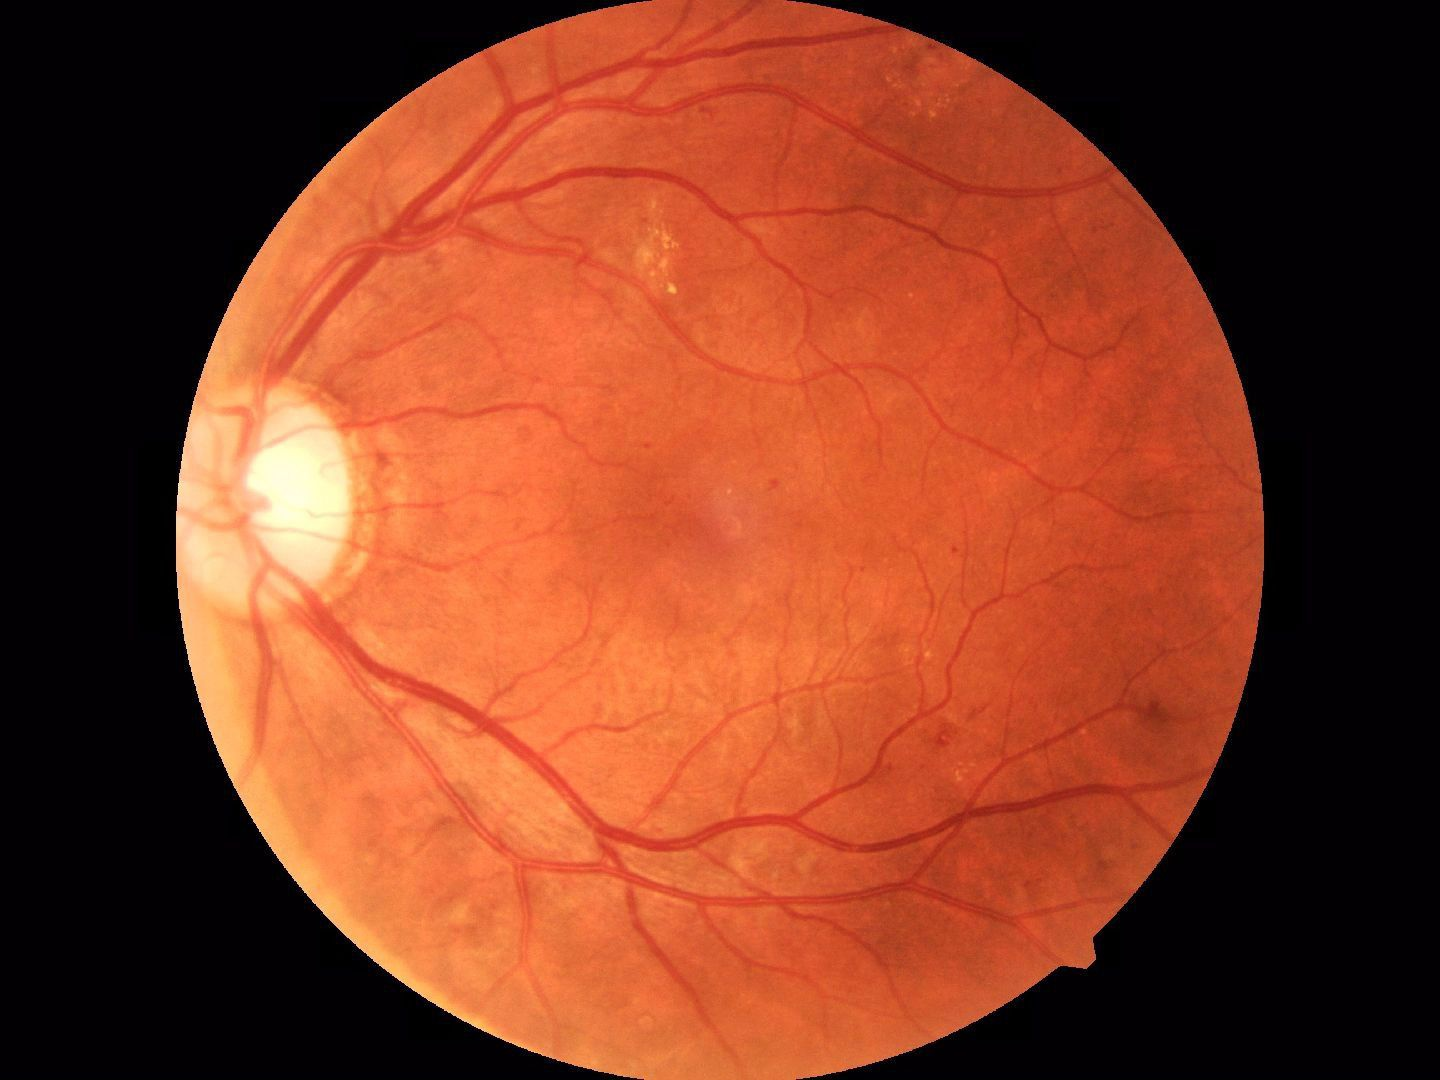Exudates: (621, 199, 700, 301)
Hemorrhages: (619, 452, 773, 604)
Optic-Disc: (189, 398, 361, 602)
Venules: (412, 670, 981, 830), (348, 90, 625, 203)
